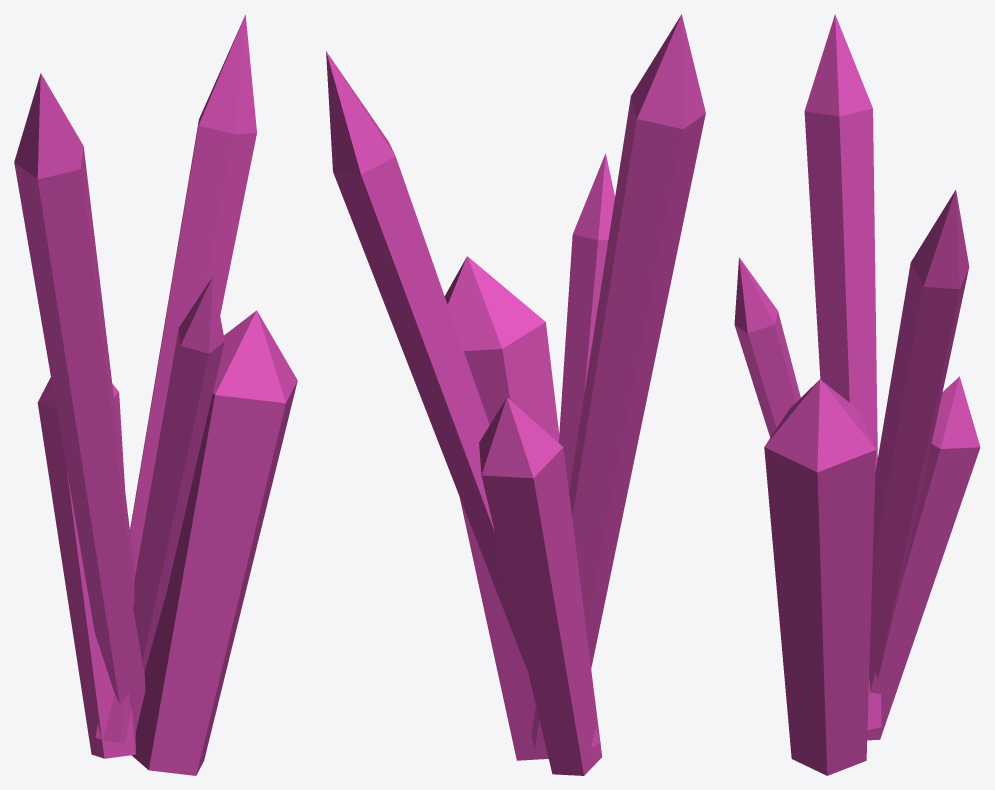
Rendered from small_crystals_5_2.fbx.
3 renders of one model, left to right at view 1: azimuth 30°, elevation 25°; view 2: azimuth 150°, elevation 25°; view 3: azimuth 270°, elevation 25°, orthographic. The views are drawn at different scales.
Parts seen in each view (by area): view 1: small crystals.018; view 2: small crystals.018; view 3: small crystals.018.
Boxes of the visible parts, x1,y1,x2,y2 form: small crystals.018: [14, 14, 297, 775]; small crystals.018: [326, 14, 705, 775]; small crystals.018: [734, 14, 980, 775].
Bounding box in the file's own units: 141 × 345 × 112.
